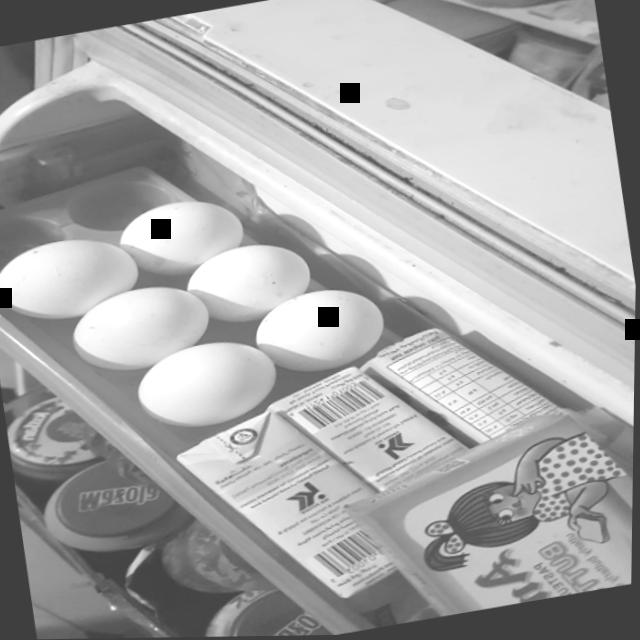eggs: (125, 333, 292, 453), (57, 274, 219, 386), (0, 219, 148, 327), (246, 275, 395, 381), (173, 230, 325, 331), (100, 192, 253, 288)
